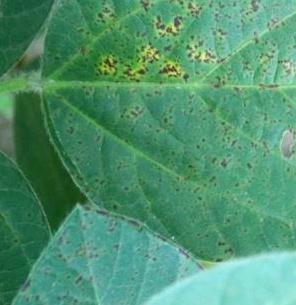Tomato Septoria leaf spot: (32, 0, 296, 250)
